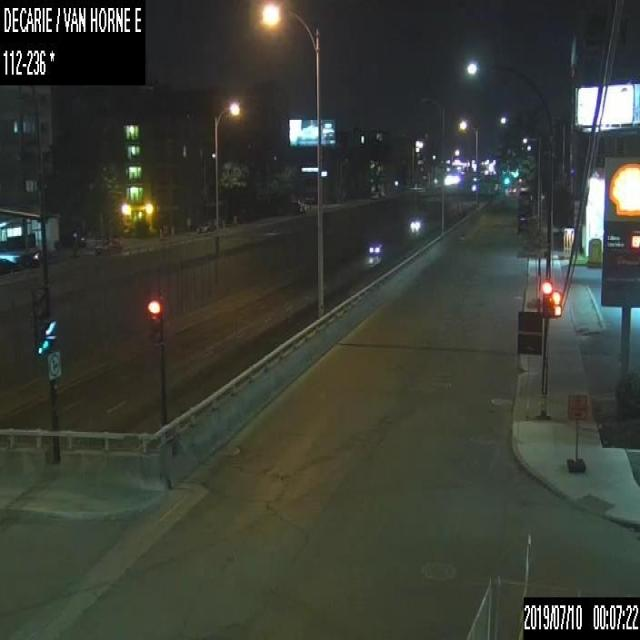construction: (566, 392, 588, 471)
vehicle: (93, 239, 122, 254), (0, 257, 18, 275), (367, 241, 384, 255), (408, 216, 422, 231)
